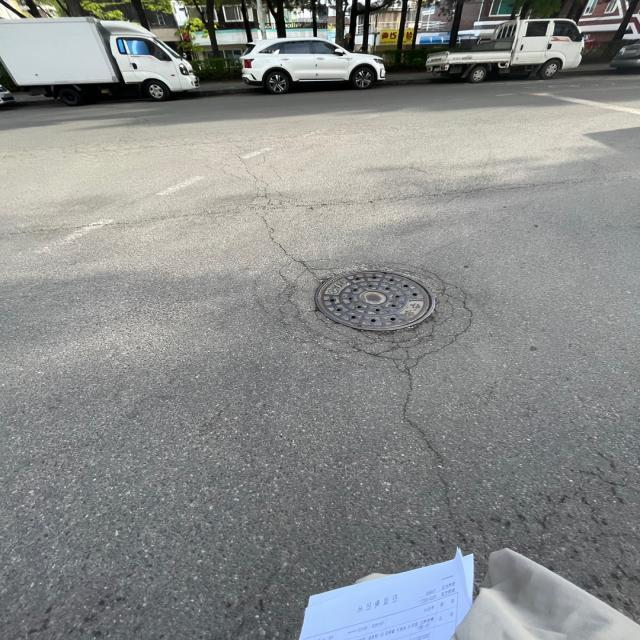Sewer Cover: (298, 271, 455, 341)
